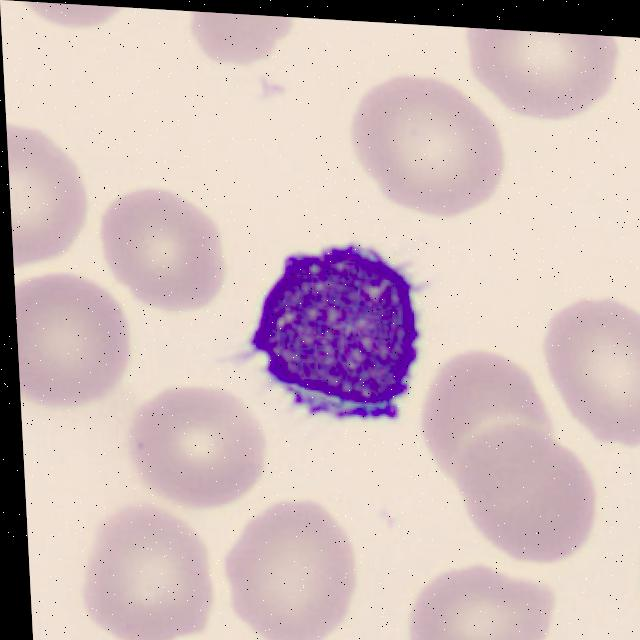lymphocyte: (244, 229, 444, 444)
rbc: (353, 70, 508, 218), (401, 356, 561, 486), (75, 495, 215, 640), (223, 500, 367, 640), (460, 423, 601, 564), (121, 388, 263, 510), (14, 269, 135, 411), (541, 291, 640, 442), (109, 185, 228, 303), (471, 28, 620, 114), (402, 568, 565, 640), (7, 134, 91, 266), (190, 11, 294, 76), (6, 0, 138, 24), (637, 514, 640, 636)
